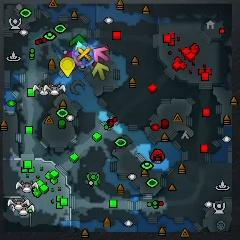Other: (73, 45, 93, 63)
p2: (75, 40, 86, 50)
p3: (66, 51, 77, 59)
p4: (60, 58, 76, 77)
x1: (93, 47, 109, 62)
x2: (92, 63, 109, 80)
x4: (70, 34, 87, 46)
